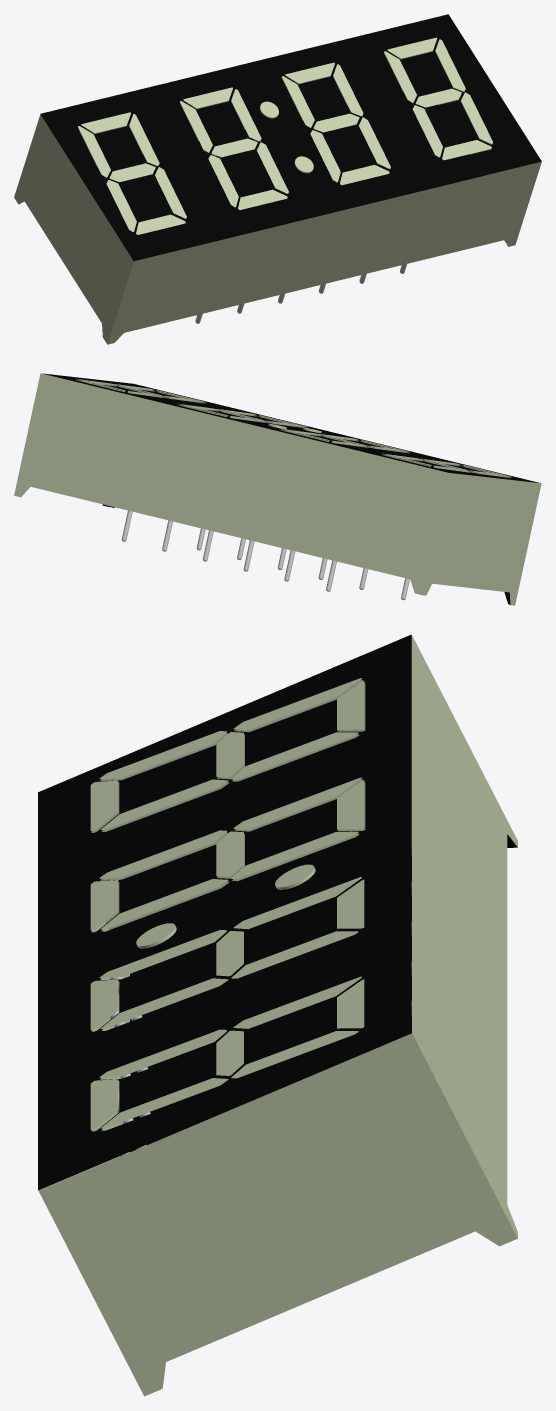
File: 23. 4DIGIT TUBE.gltf
The picture shows the model from 3 angles, top to bottom: view 1: azimuth 30°, elevation 25°; view 2: azimuth 150°, elevation 25°; view 3: azimuth 270°, elevation 25°; orthographic projection. The views are drawn at different scales.
Parts seen in each view (by area): view 1: Plane.002; view 2: Plane.002; view 3: Plane.002.
Boxes of the visible parts, x1,y1,x2,y2 form: Plane.002: [14, 14, 541, 344]; Plane.002: [14, 373, 541, 605]; Plane.002: [38, 634, 517, 1396].
Bounding box in the file's own units: 0.032 × 0.0145 × 0.0163.
